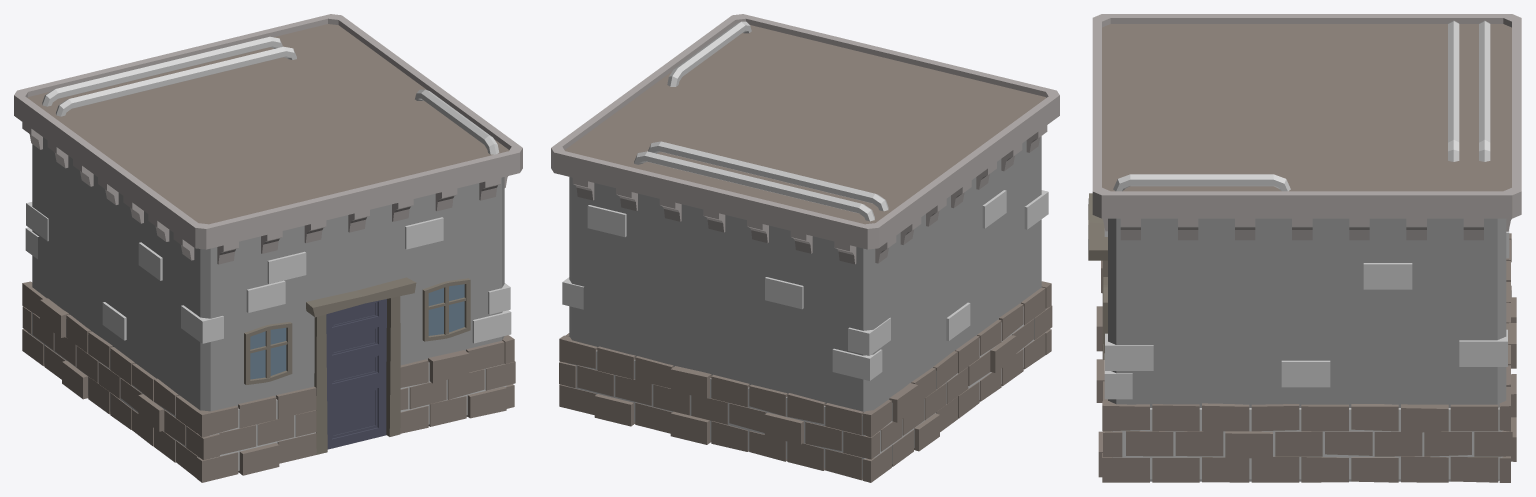
The model's file is 1Story.glb.
The picture shows the model from 3 angles, left to right: view 1: azimuth 30°, elevation 25°; view 2: azimuth 150°, elevation 25°; view 3: azimuth 270°, elevation 25°; orthographic projection. The views are drawn at different scales.
Parts seen in each view (by area): view 1: 1Story_Cube.093; view 2: 1Story_Cube.093; view 3: 1Story_Cube.093.
Part boxes in pixels (left/top/right/bottom): 1Story_Cube.093: left=14, top=14, right=522, bottom=482; 1Story_Cube.093: left=551, top=14, right=1059, bottom=482; 1Story_Cube.093: left=1088, top=14, right=1521, bottom=482.
Size of the model in its own units: 2.15 by 1.67 by 2.17.
Materials: 1 (1 with a texture image).
